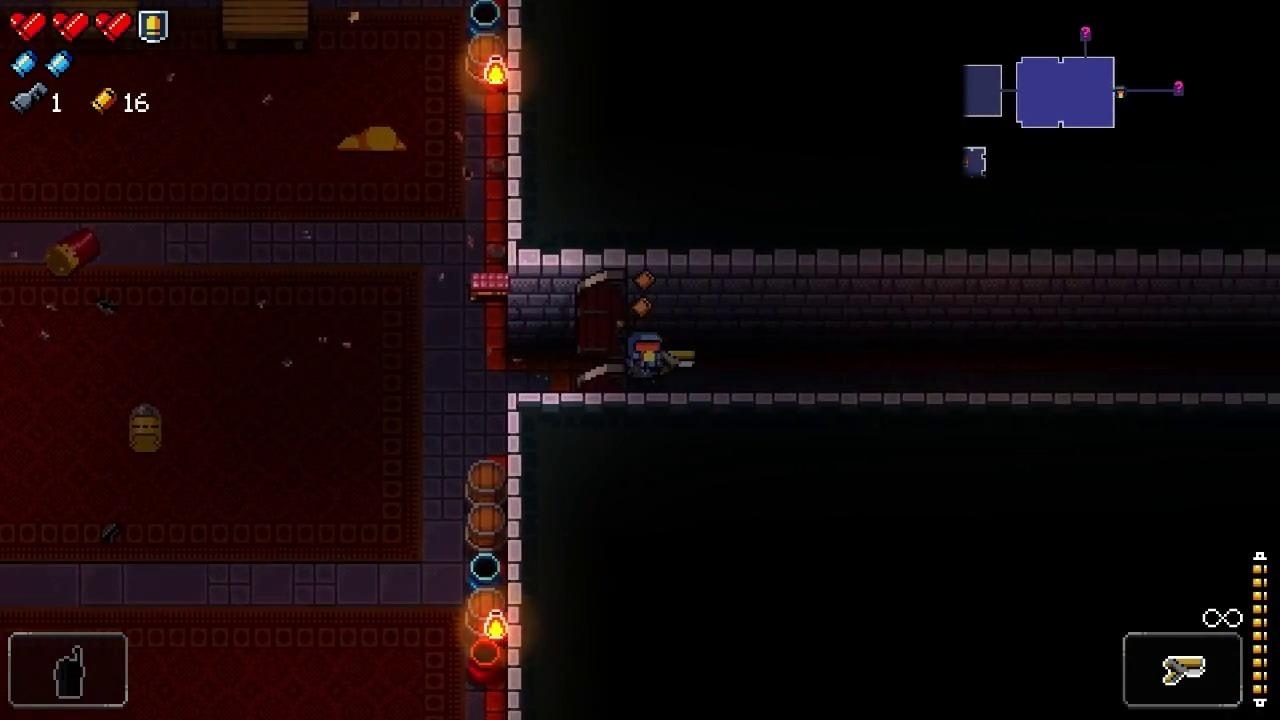dead_apprentice_gunjurer: (339, 125, 409, 151)
dead_bullet_kin: (128, 402, 161, 452)
dead_red_shotgun_kin: (45, 227, 101, 275)
player: (628, 332, 664, 383)
table: (224, 0, 309, 49)
unlocked_door: (574, 269, 626, 393)
